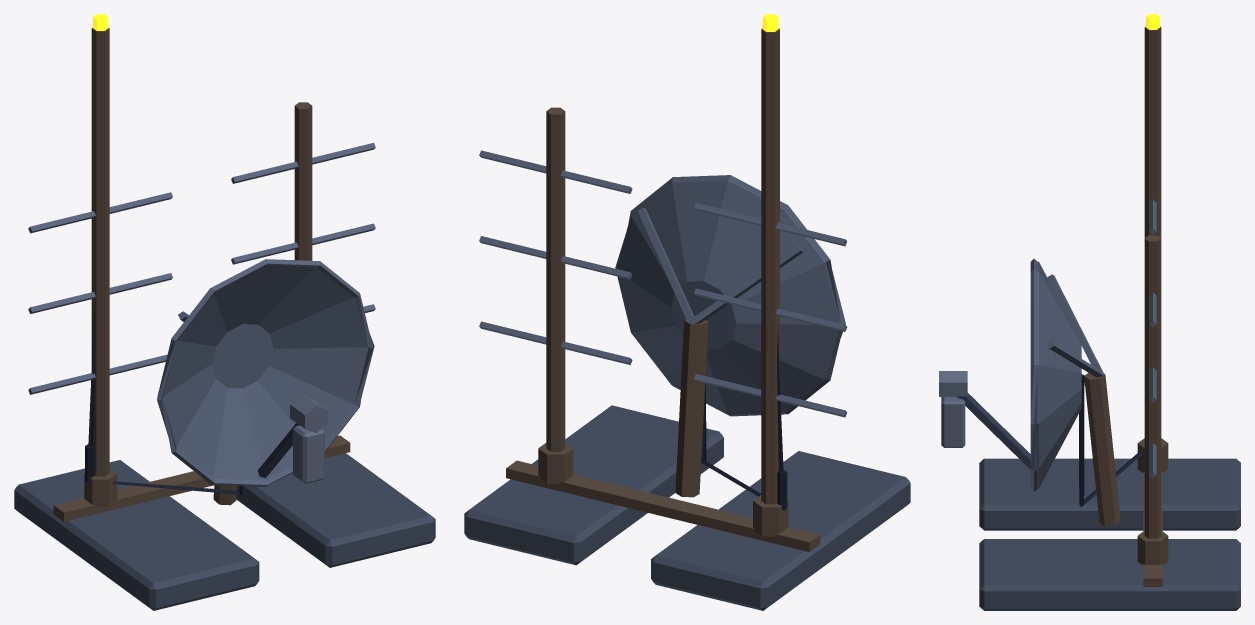
File: city_antenna.glb
The picture shows the model from 3 angles, left to right: view 1: azimuth 30°, elevation 25°; view 2: azimuth 150°, elevation 25°; view 3: azimuth 270°, elevation 25°; orthographic projection. The views are drawn at different scales.
Visible parts, largest first — view 1: dish, foot, foot.001, mast, dish_rim, mast.001, frame, receiver, coax, aerial.002, aerial.004, aerial.005 (+3 smaller); view 2: dish, foot, foot.001, mast, mast.001, frame, dish_mount, dish_rim, coax, aerial.001, aerial.002, aerial.005 (+3 smaller); view 3: foot.001, foot, dish, mast, mast.001, dish_mount, receiver, dish_rim, receiver_arm, coax, frame.
Part boxes in pixels (box(x1,y1,x2,y2)): dish: box(157, 265, 368, 480); foot: box(14, 460, 259, 610); foot.001: box(236, 453, 435, 567); mast: box(84, 27, 117, 507); dish_rim: box(157, 259, 374, 486); mast.001: box(294, 102, 312, 260); frame: box(53, 435, 350, 521); receiver: box(290, 394, 327, 483); coax: box(85, 310, 242, 494); aerial.002: box(28, 192, 172, 233); aerial.004: box(231, 223, 375, 264); aerial.005: box(231, 142, 375, 183); dish: box(616, 180, 840, 414); foot: box(651, 451, 910, 610); foot.001: box(464, 405, 723, 565); mast: box(538, 28, 788, 536); mast.001: box(546, 107, 565, 451); frame: box(506, 460, 820, 551); dish_mount: box(675, 319, 708, 497); dish_rim: box(615, 175, 845, 416); coax: box(701, 324, 787, 510); aerial.001: box(694, 288, 847, 331); aerial.002: box(694, 203, 847, 246); aerial.005: box(479, 150, 632, 193); foot.001: box(979, 539, 1240, 610); foot: box(979, 458, 1240, 530); dish: box(1037, 261, 1103, 488); mast: box(1137, 26, 1168, 565); mast.001: box(1144, 235, 1161, 538); dish_mount: box(1084, 373, 1120, 525); receiver: box(939, 371, 967, 447); dish_rim: box(1030, 258, 1037, 491); receiver_arm: box(956, 393, 1030, 469); coax: box(1079, 374, 1143, 506); frame: box(1143, 471, 1162, 586).
Bounding box in the file's own units: 1.56 × 2.25 × 1.27.
